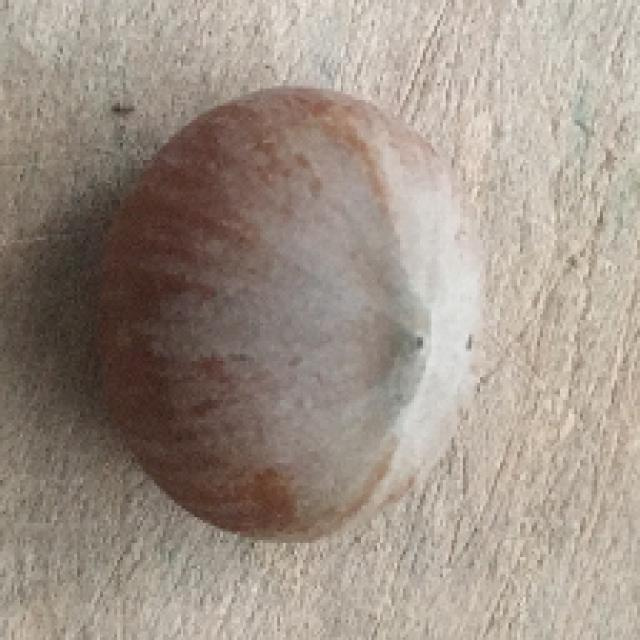QualityHazelnut: (93, 88, 488, 550)
